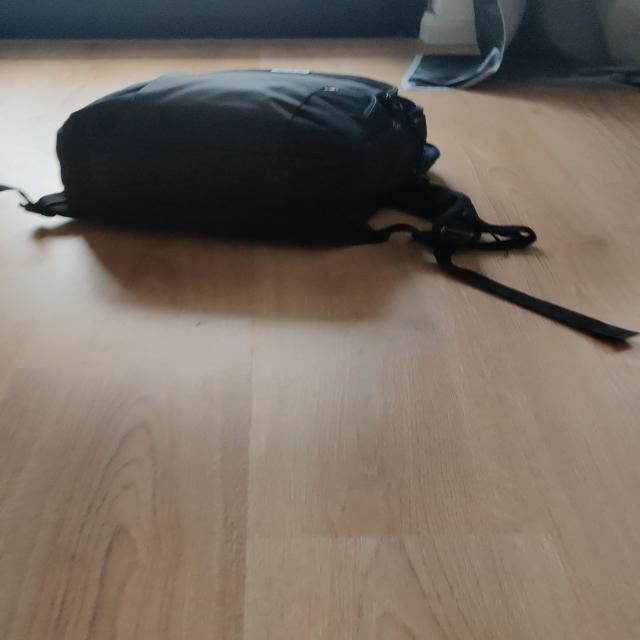backpack: (25, 62, 470, 250)
